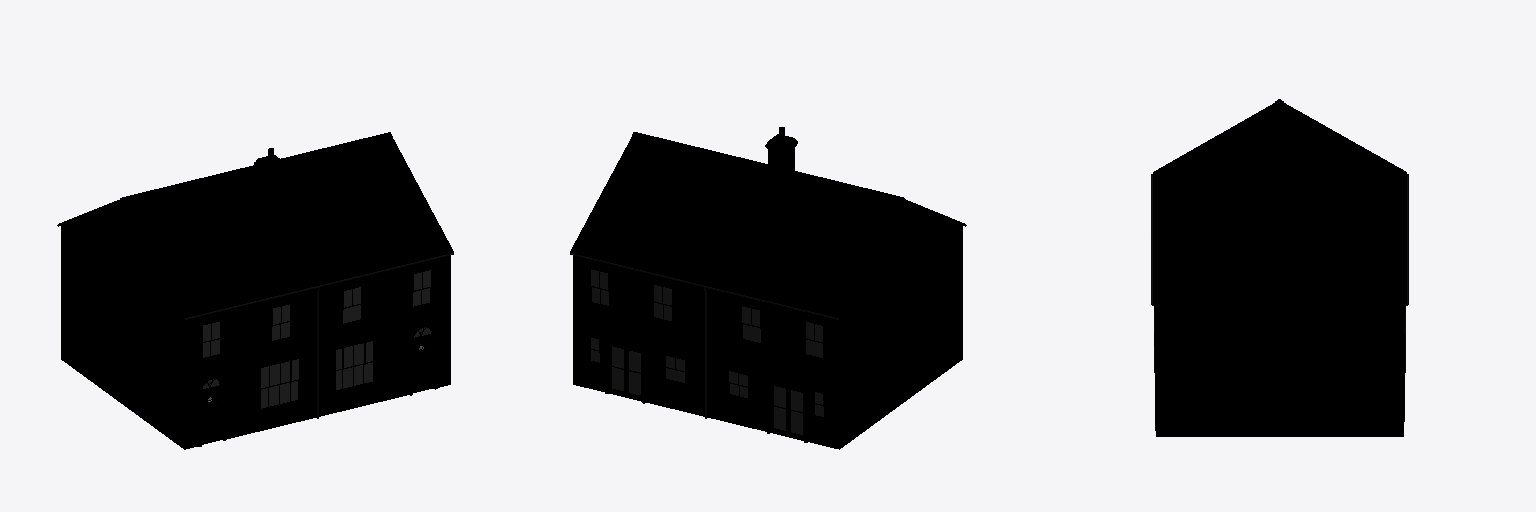
Rendered from Casita.obj.
3 renders of one model, left to right at view 1: azimuth 30°, elevation 25°; view 2: azimuth 150°, elevation 25°; view 3: azimuth 270°, elevation 25°, orthographic.
Parts seen in each view (by area): view 1: polySurface76 houseF; view 2: polySurface76 houseF; view 3: polySurface76 houseF.
Boxes of the visible parts, x1=… form: polySurface76 houseF: x1=57, y1=132, x2=453, y2=449; polySurface76 houseF: x1=570, y1=127, x2=966, y2=449; polySurface76 houseF: x1=1151, y1=99, x2=1408, y2=436.
Bounding box in the file's own units: 4.45 × 3.71 × 3.7.